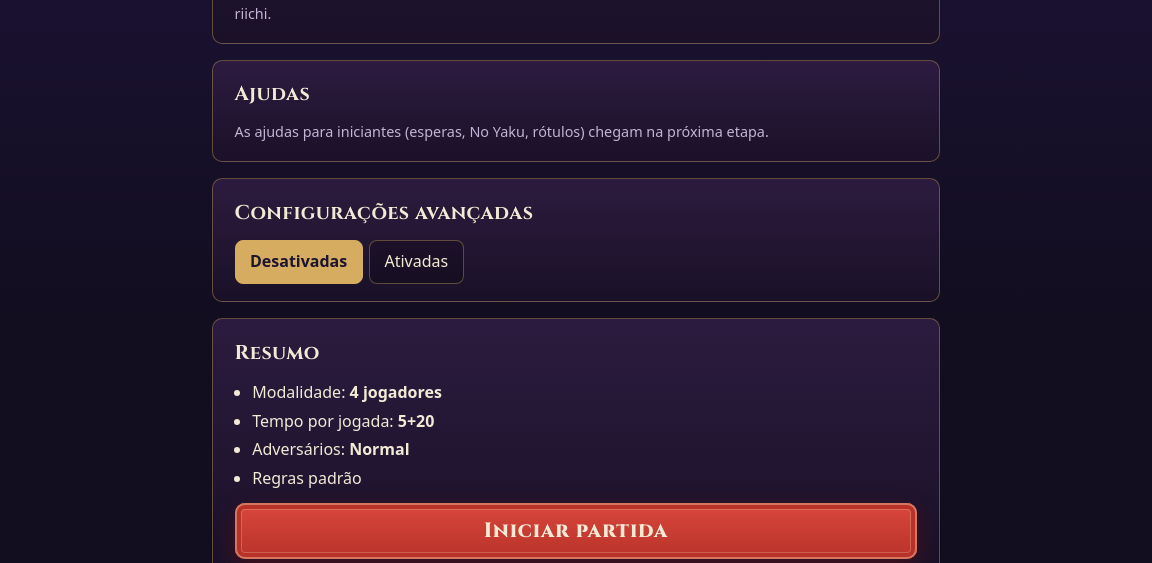
Jogar partida (spec 6.6) › avançadas: controles gerados das opções; valor inválido bloqueia o início com mensagem
The image size is (1152, 563).
(page scrolled)
Click the radio button labelled "Ativadas": point(416, 262) x1=369 y1=240 x2=464 y2=284
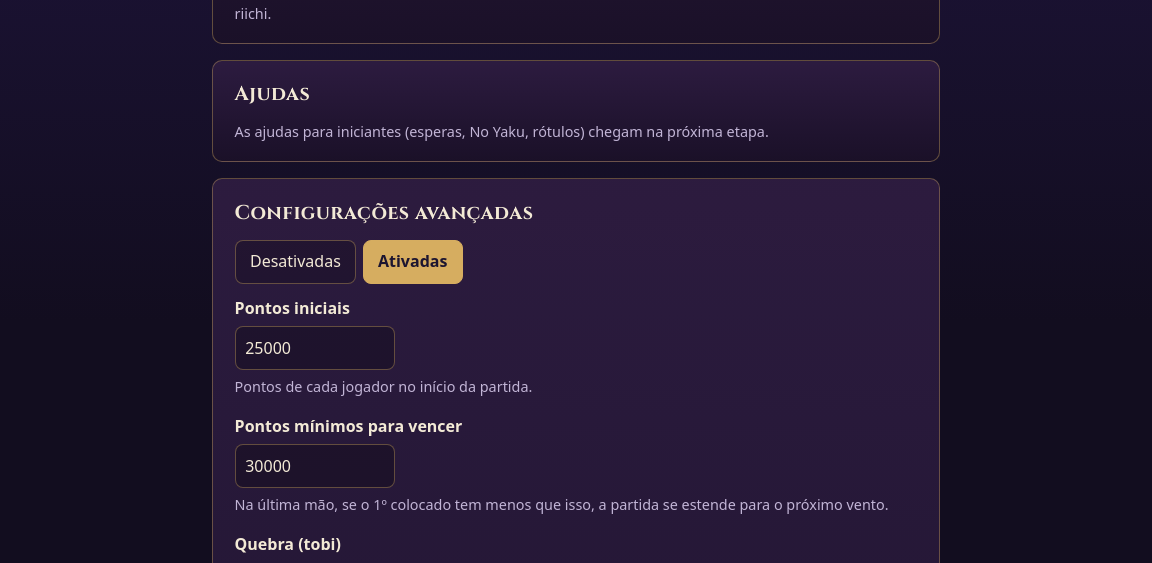
Replace the text in the number field labelled "Pontos iniciais" with "25050": point(315, 348) x1=235 y1=326 x2=395 y2=370
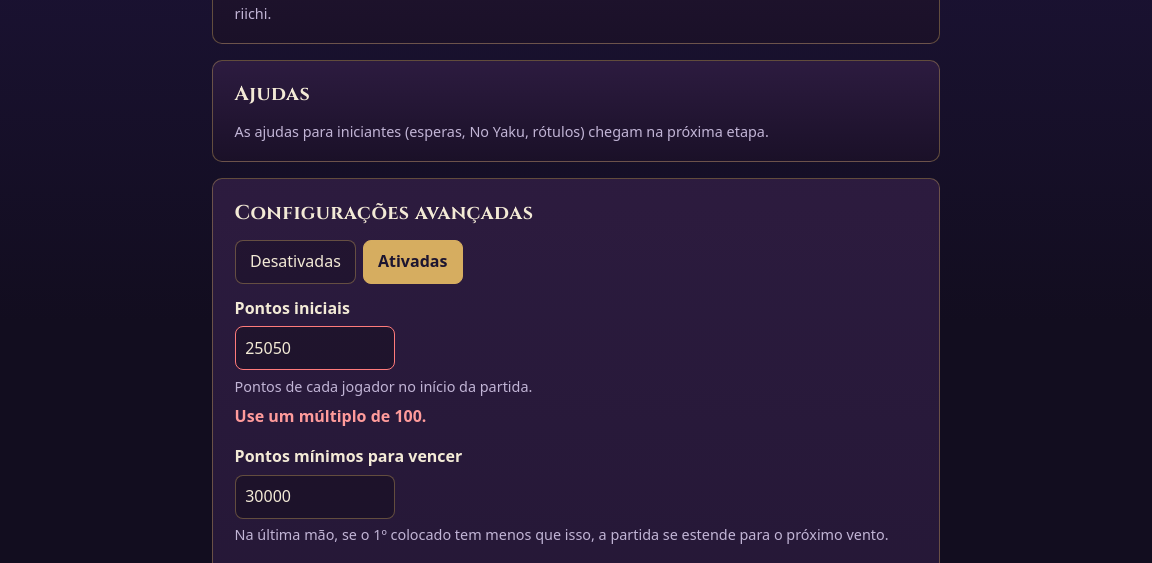
Expected: the text "Use um múltiplo de 100." is shown, x1=235 y1=404 x2=426 y2=426
Replace the text in the number field labelled "Pontos iniciais" with "30000": point(315, 348) x1=235 y1=326 x2=395 y2=370
(page scrolled)
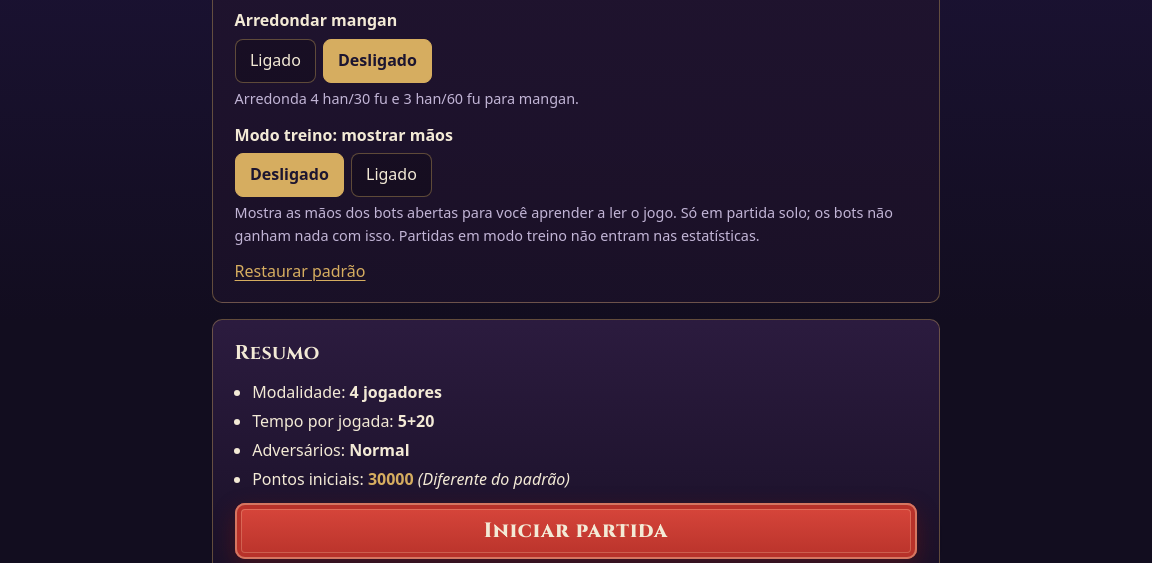
Expected: the text "(Diferente do padrão)" is shown, x1=418 y1=468 x2=570 y2=490
Expected: the button "Iniciar partida" is enabled, x1=235 y1=503 x2=917 y2=559
